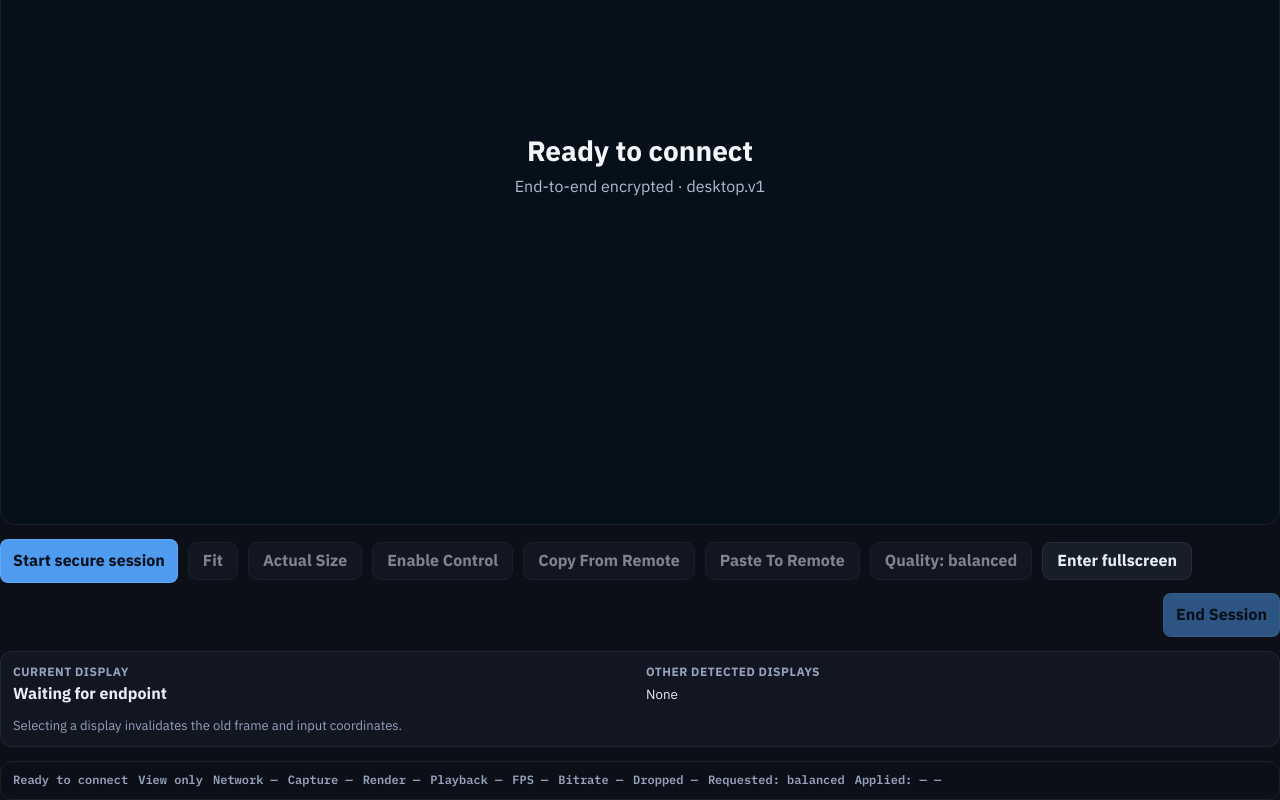
Scenario: DesktopViewerPage › does not reconnect when the relay closes during an explicit end
(page scrolled)
Step 1. Click the button "Start secure session" → [89, 561], box [0,539,178,583]
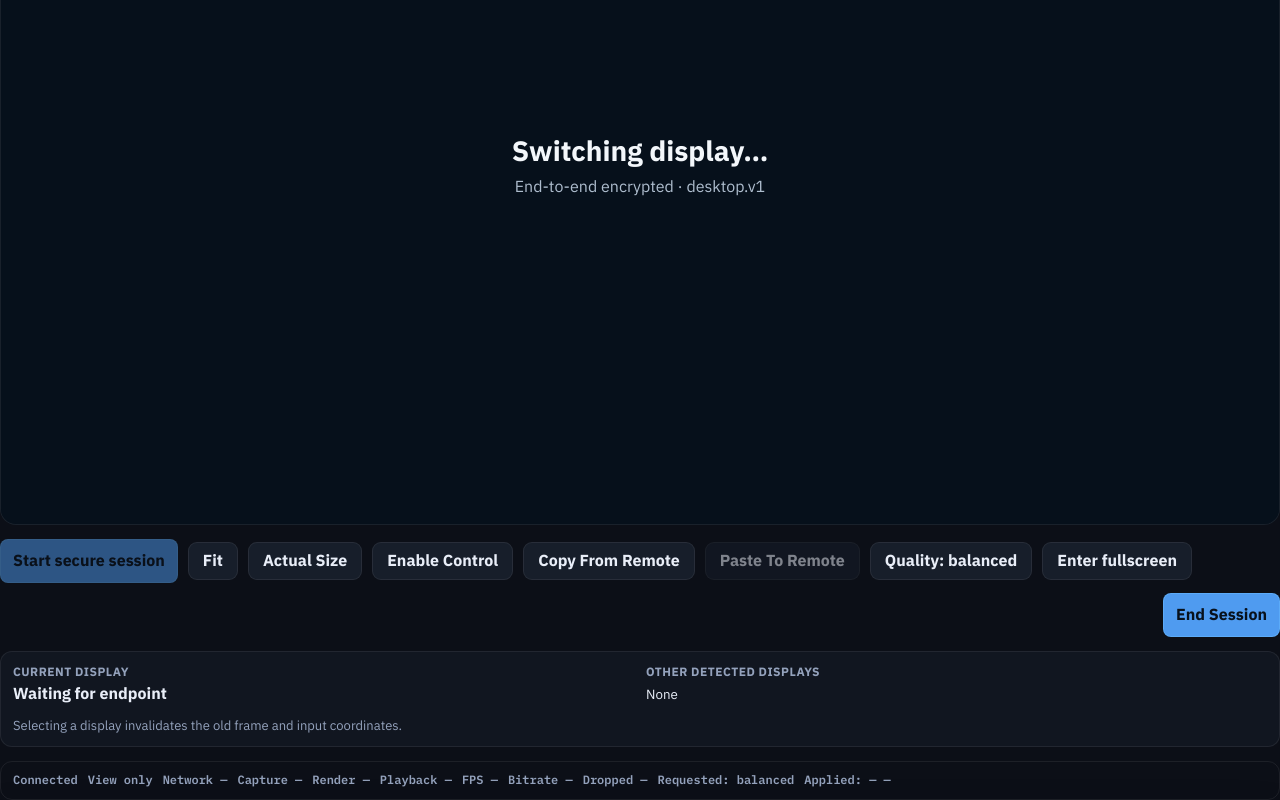
Check: the message shows "Connected", box [13,772,78,787]
Step 2. Click the button "End Session" → [1222, 615], box [1163,593,1279,637]
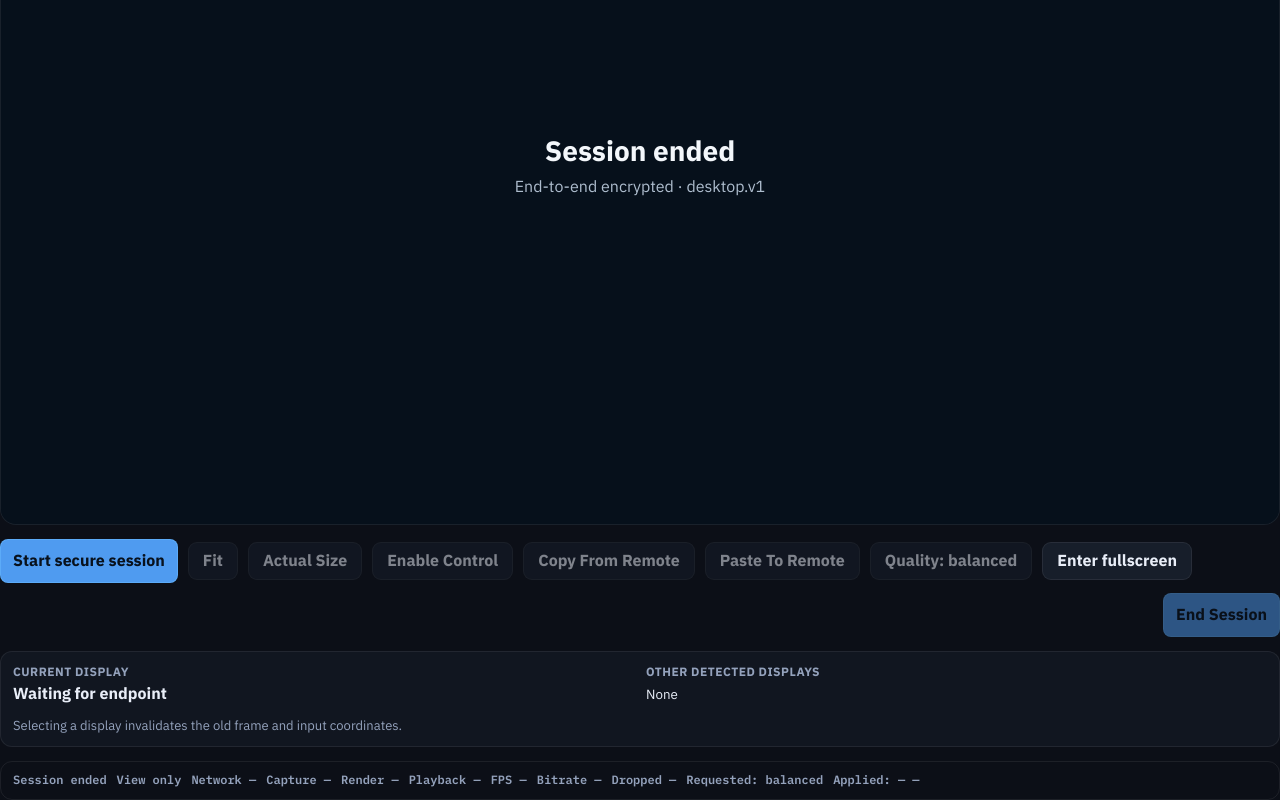
Check: the message shows "Session ended", box [13,772,107,787]
